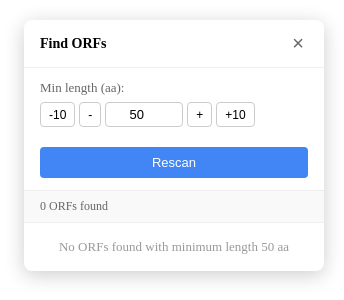
Test: ORFFinderPanel › reports origin-spanning ORFs for circular sequences
This screenshot has width=344, height=300.
Replace the text in the number field with class "length-input" with "1" at [144, 114], box [105,102,183,127]
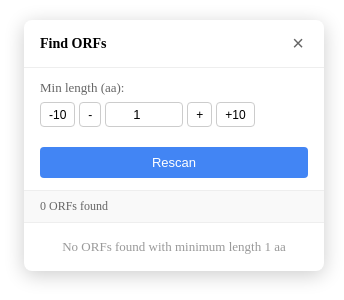
Click the button "Rescan" at [174, 162], box [40,147,308,178]
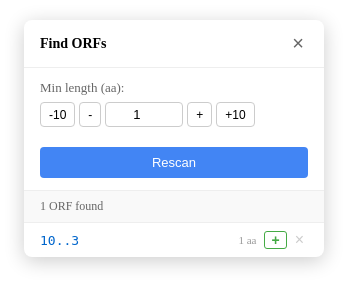
Now the number of elements with class "result-item" is 1, box [40,231,308,249]
Now the element with class "result-item" shows "10..3", box [40,232,79,248]
Now the element with class "result-item" shows "1 aa", box [238,234,256,246]
